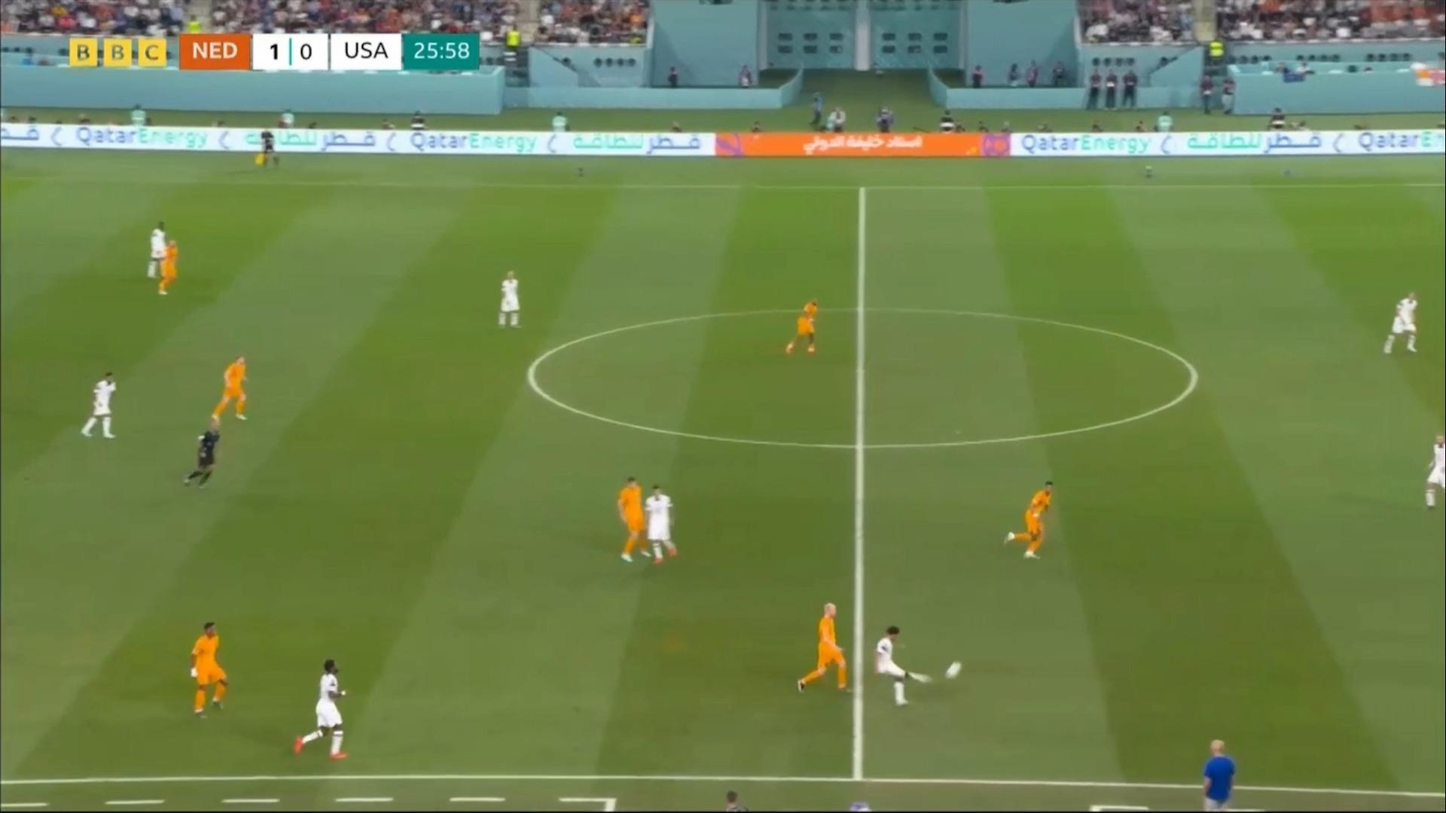Ball: (947, 662, 964, 681)
Player: (285, 656, 356, 760), (866, 624, 945, 710), (180, 621, 240, 719), (795, 597, 849, 692), (1008, 480, 1060, 563), (80, 366, 125, 445), (614, 476, 653, 566), (214, 348, 256, 427), (1381, 288, 1425, 362), (639, 482, 676, 567), (783, 297, 823, 361), (1201, 739, 1236, 811), (1417, 434, 1445, 514), (495, 268, 527, 333), (151, 234, 179, 301), (142, 220, 169, 280)
Ref: (187, 416, 227, 491), (254, 125, 283, 174)
